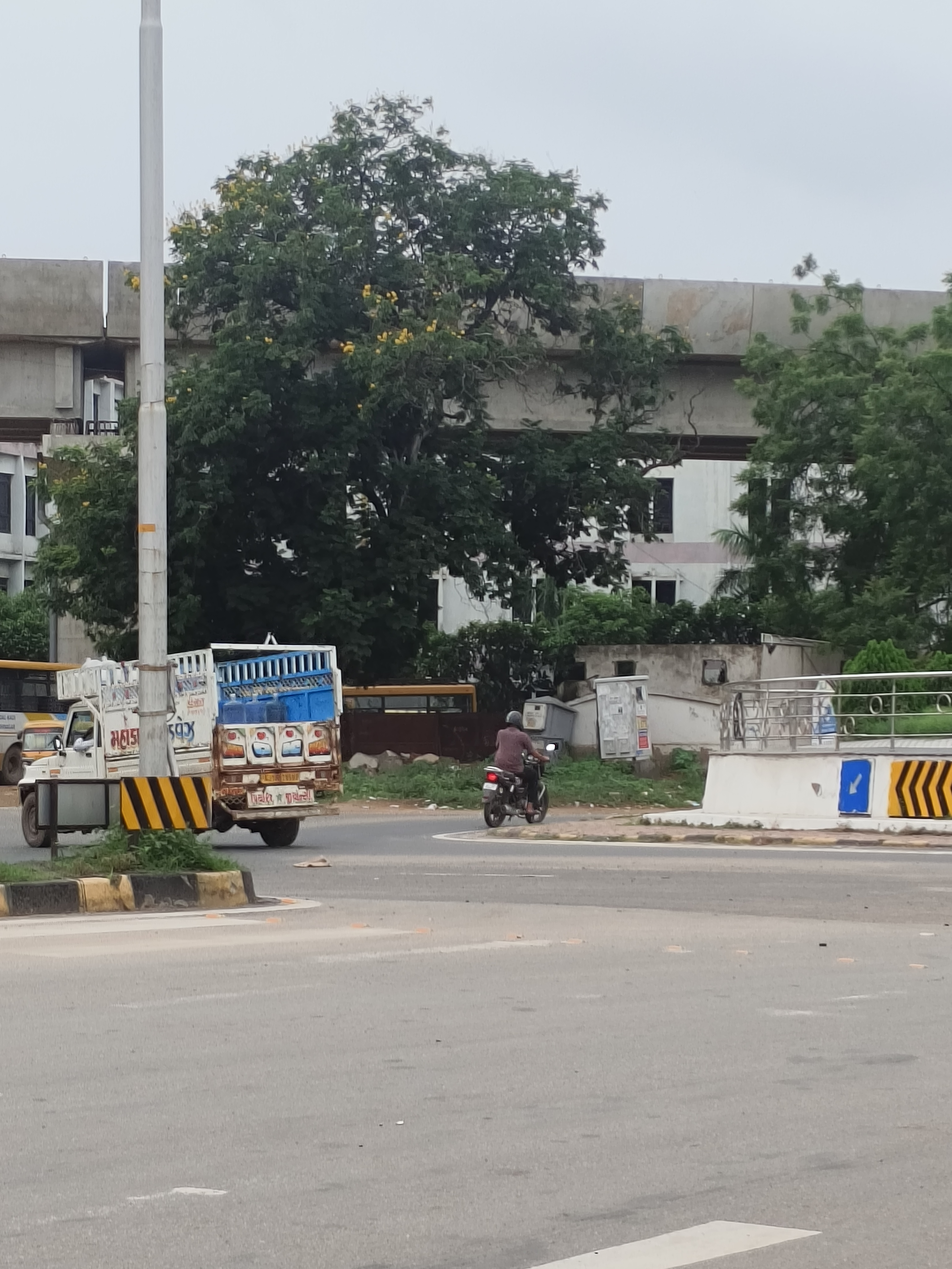BikeWithRider: (475, 703, 558, 832)
Helmet: (501, 705, 529, 735)
